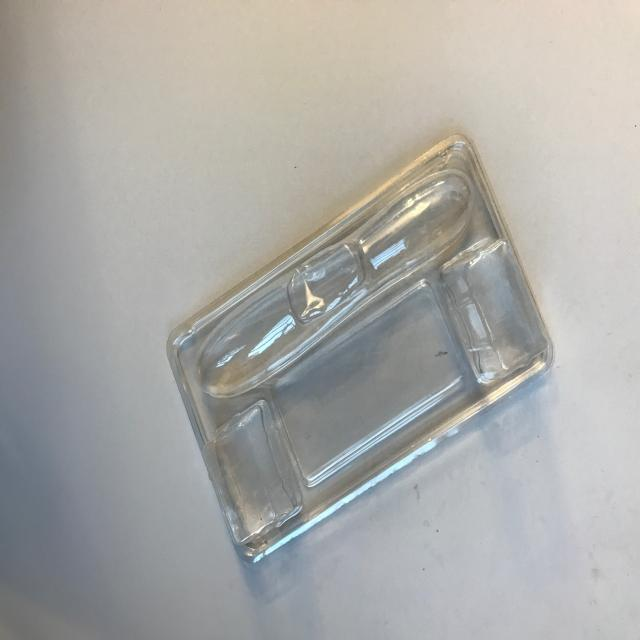Plastic: (152, 83, 544, 608)
